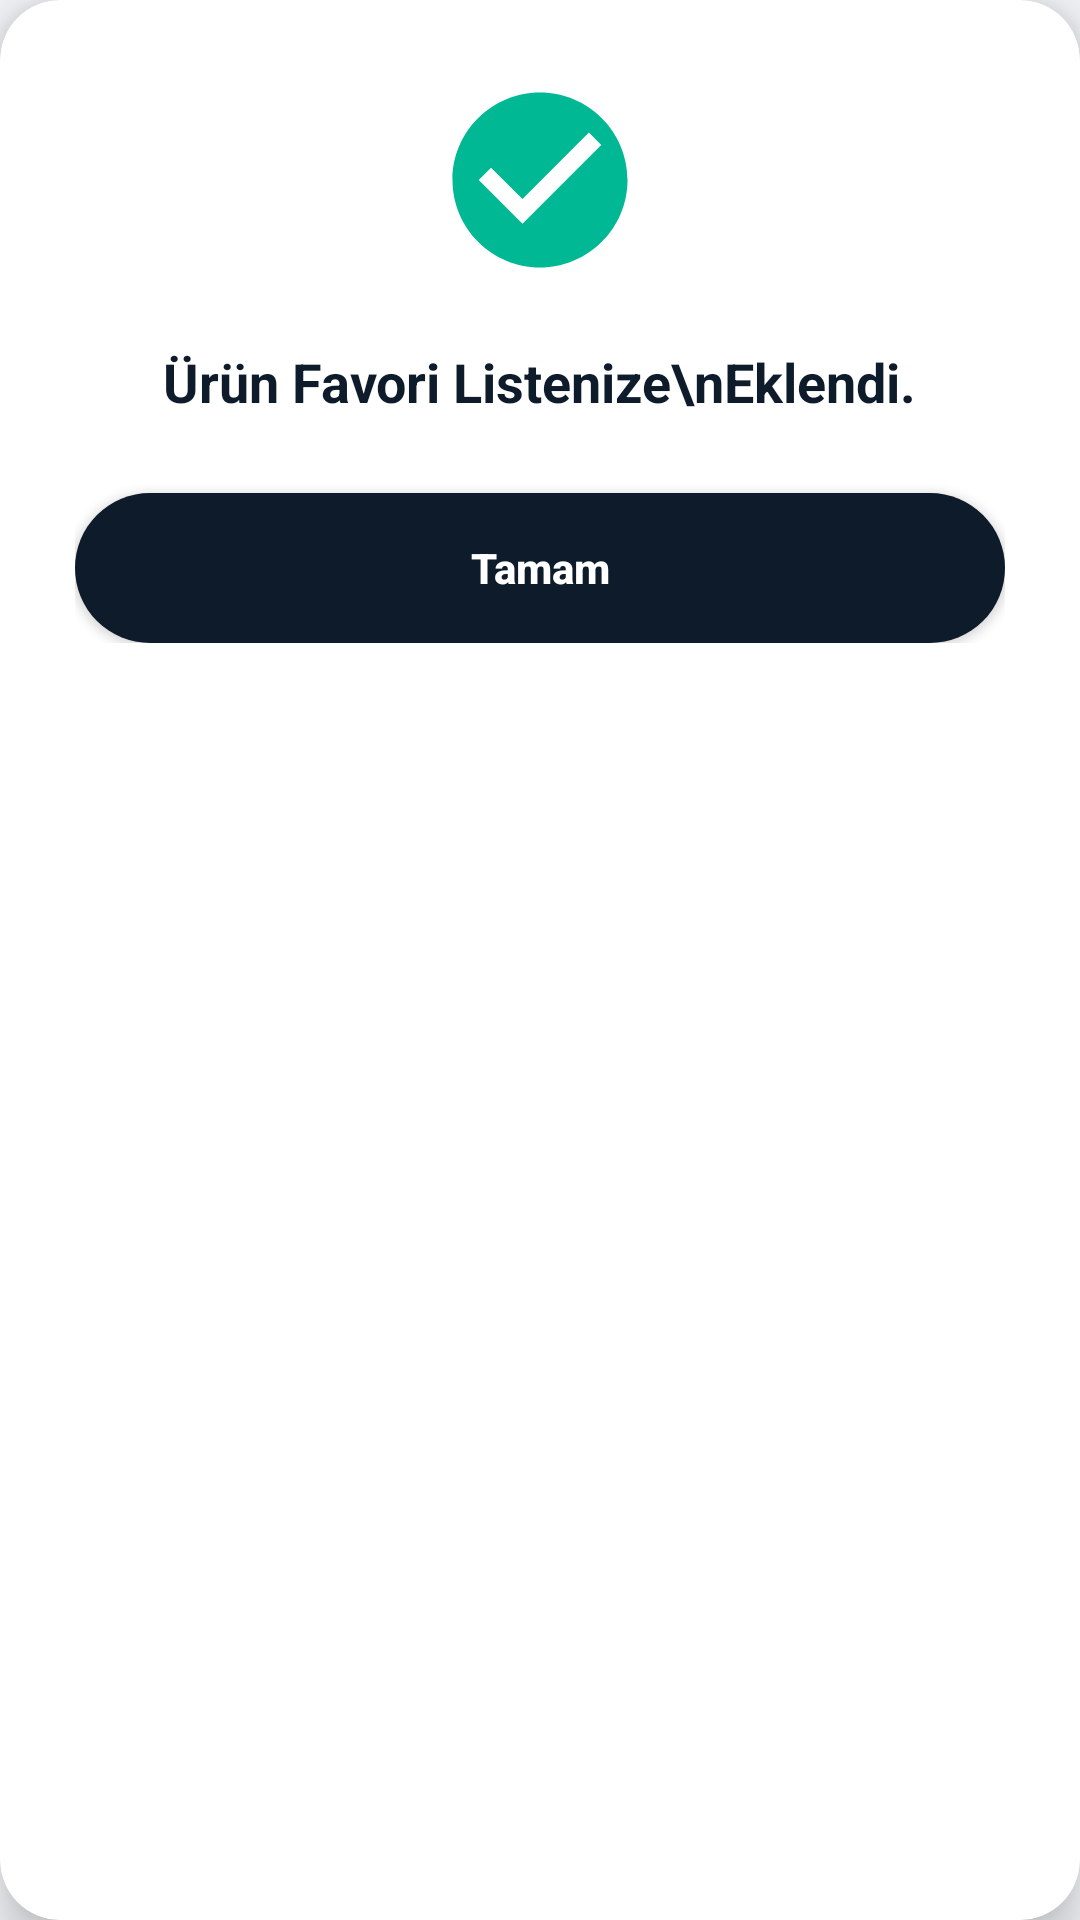

Named icons in this screenshot (1080w x 1920h) and their bounding boxes, (x1,y1,x2,y2):
check success: (452,92,628,268)
